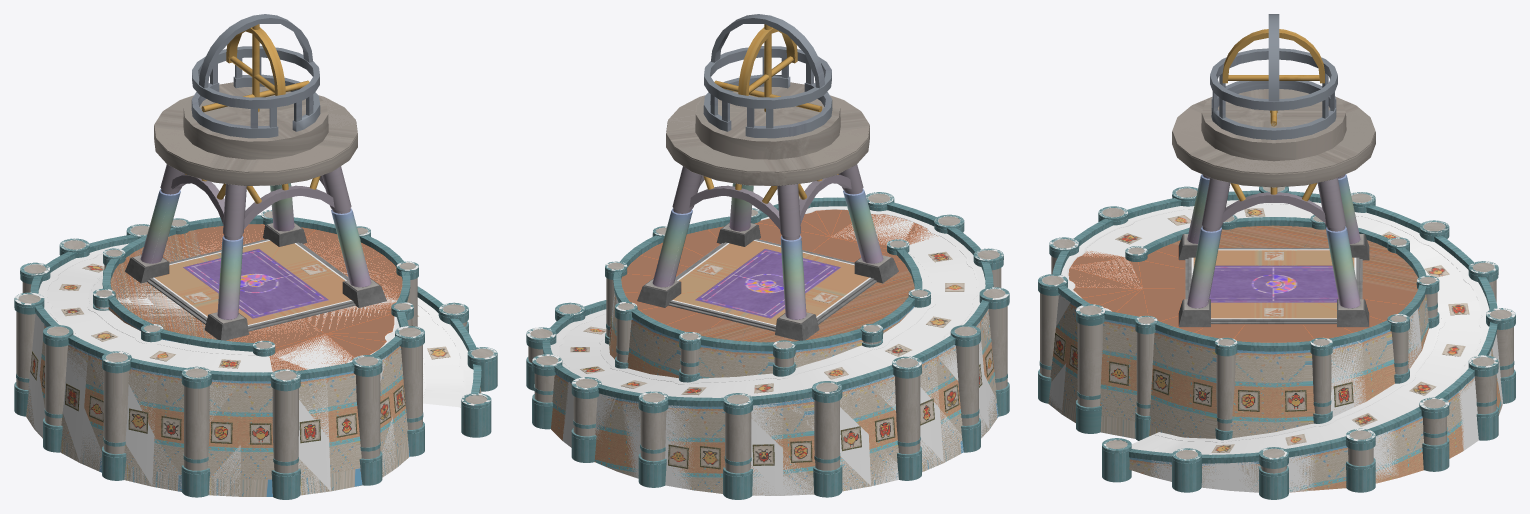
Rendered from objects_un_t09astronomical01.gltf.
3 views of the same model, side by side, from view 1: azimuth 30°, elevation 25°; view 2: azimuth 150°, elevation 25°; view 3: azimuth 270°, elevation 25° (orthographic).
Parts seen in each view (by area): view 1: um_objects_un_t09astronomical01_model_lod0Shape:objects_un_t (×14), nomerge_objects_un_t09astronomical01_mesh1_shape:objects_un_, um_objects_un_t09astronomical01_model_lod1Shape:objects_un_t (×3), um_objects_un_t09astronomical01_model_lod2Shape:objects_un_t (×4), nomerge_objects_un_t09astronomical01_mesh2_shape:objects_un_; view 2: um_objects_un_t09astronomical01_model_lod0Shape:objects_un_t (×14), nomerge_objects_un_t09astronomical01_mesh1_shape:objects_un_, um_objects_un_t09astronomical01_model_lod1Shape:objects_un_t (×3), um_objects_un_t09astronomical01_model_lod2Shape:objects_un_t (×3), nomerge_objects_un_t09astronomical01_mesh2_shape:objects_un_; view 3: um_objects_un_t09astronomical01_model_lod0Shape:objects_un_t (×14), nomerge_objects_un_t09astronomical01_mesh1_shape:objects_un_, um_objects_un_t09astronomical01_model_lod1Shape:objects_un_t (×4), um_objects_un_t09astronomical01_model_lod2Shape:objects_un_t (×2), nomerge_objects_un_t09astronomical01_mesh2_shape:objects_un_.
Boxes of the visible parts, x1=… form: um_objects_un_t09astronomical01_model_lod0Shape:objects_un_t (×14): x1=14, y1=14, x2=497, y2=499; nomerge_objects_un_t09astronomical01_mesh1_shape:objects_un_: x1=26, y1=293, x2=481, y2=496; um_objects_un_t09astronomical01_model_lod1Shape:objects_un_t (×3): x1=47, y1=95, x2=357, y2=372; um_objects_un_t09astronomical01_model_lod2Shape:objects_un_t (×4): x1=18, y1=19, x2=493, y2=380; nomerge_objects_un_t09astronomical01_mesh2_shape:objects_un_: x1=38, y1=243, x2=473, y2=407; um_objects_un_t09astronomical01_model_lod0Shape:objects_un_t (×14): x1=526, y1=14, x2=1009, y2=499; nomerge_objects_un_t09astronomical01_mesh1_shape:objects_un_: x1=551, y1=293, x2=998, y2=495; um_objects_un_t09astronomical01_model_lod1Shape:objects_un_t (×3): x1=666, y1=95, x2=976, y2=375; um_objects_un_t09astronomical01_model_lod2Shape:objects_un_t (×3): x1=530, y1=97, x2=1005, y2=403; nomerge_objects_un_t09astronomical01_mesh2_shape:objects_un_: x1=550, y1=206, x2=985, y2=383; um_objects_un_t09astronomical01_model_lod0Shape:objects_un_t (×14): x1=1038, y1=14, x2=1515, y2=499; nomerge_objects_un_t09astronomical01_mesh1_shape:objects_un_: x1=1048, y1=294, x2=1501, y2=492; um_objects_un_t09astronomical01_model_lod1Shape:objects_un_t (×4): x1=1040, y1=96, x2=1496, y2=450; um_objects_un_t09astronomical01_model_lod2Shape:objects_un_t (×2): x1=1042, y1=100, x2=1511, y2=459; nomerge_objects_un_t09astronomical01_mesh2_shape:objects_un_: x1=1061, y1=200, x2=1489, y2=449.
Size of what is drawn, in the model's own units: 81.18 by 71.77 by 80.15.
Materials: 16 (13 with a texture image).
